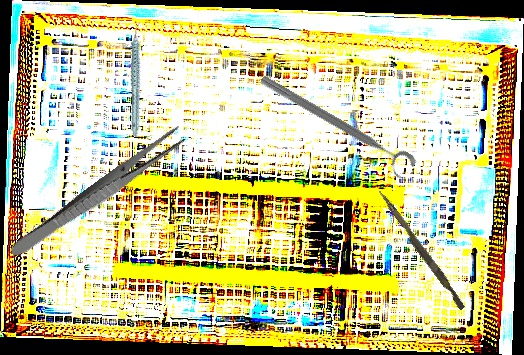Dressing Forceps: (6, 123, 190, 264)
Fixation Ring: (252, 71, 419, 183)
Handpiece: (109, 22, 166, 138)
Pusher: (373, 189, 469, 311)
